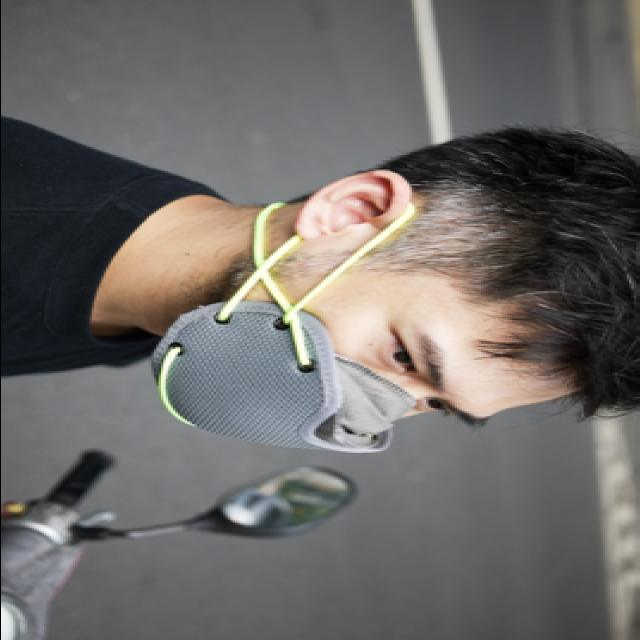with_mask: (148, 242, 490, 454)
